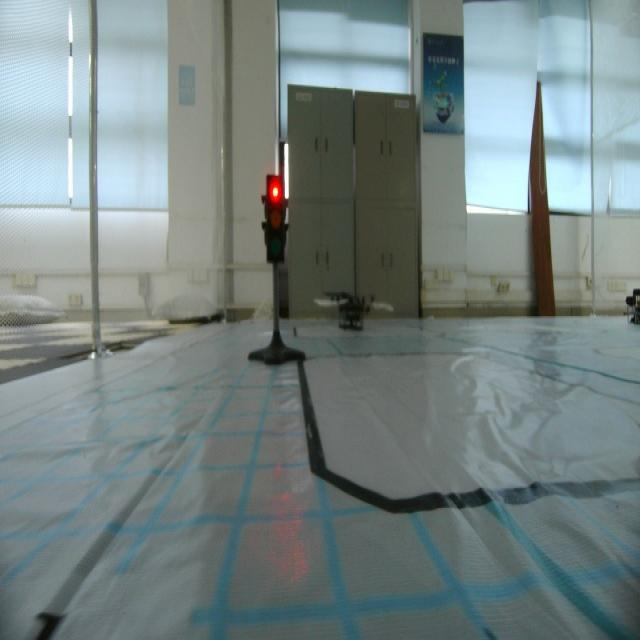red: (262, 176, 288, 269)
